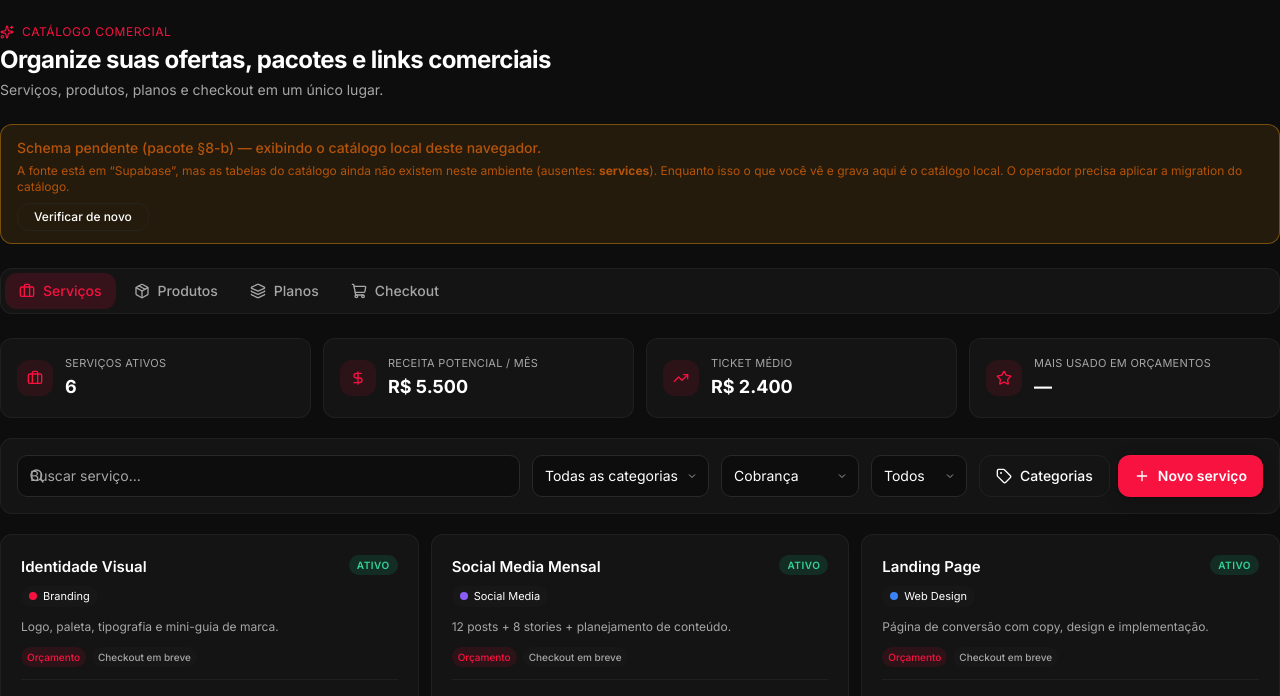
Test: Catálogo · fonte NUVEM › 'Verificar de novo' reconsulta e, com o schema aplicado, sai do aviso e mostra a nuvem
Expected: the message is shown, [0,124,1279,244]
What coordinates should you click on to do the following:
click the button "Verificar de novo"
I would click on:
 (83, 217)
Its box is [17,203,149,231].
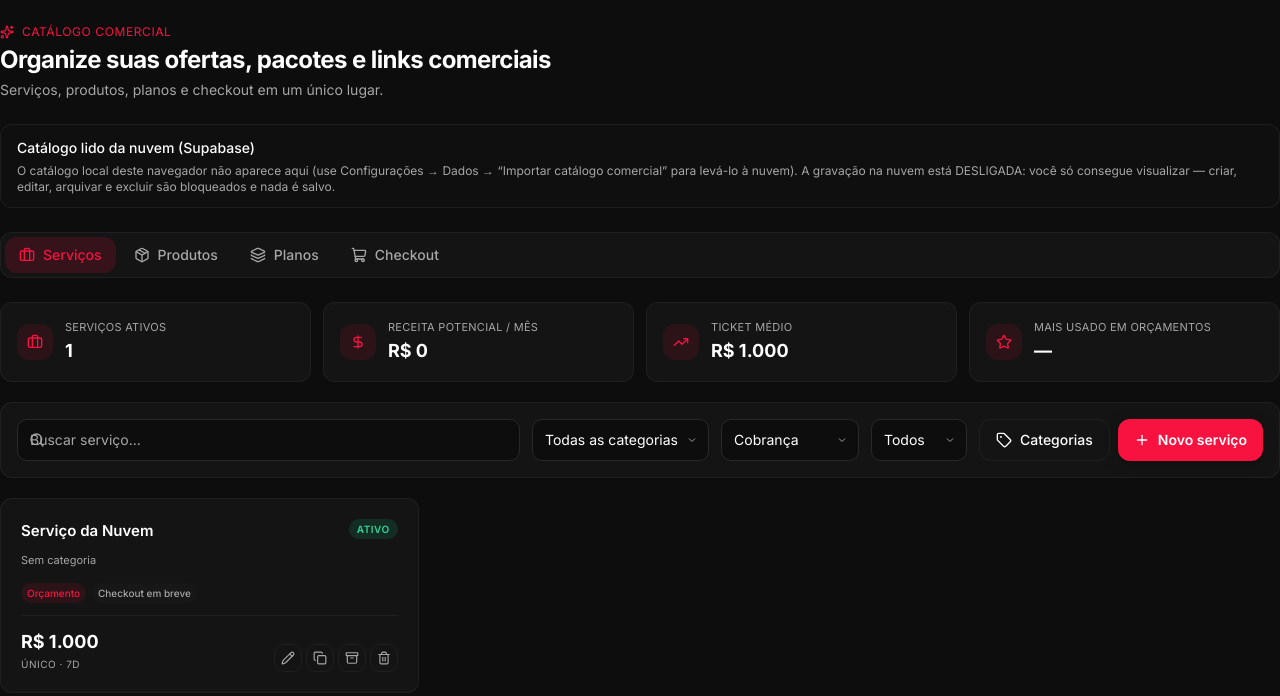
Expected: the text "Serviço da Nuvem" is shown, [21,519,153,543]
